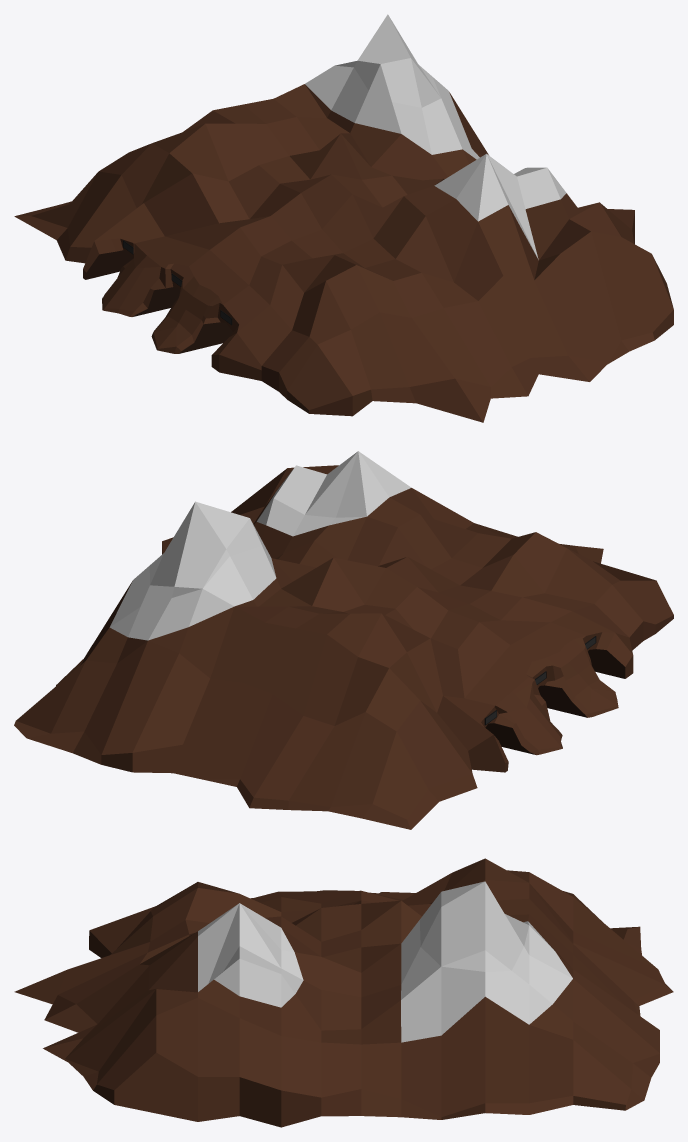
Rendered from StorageCave.fbx.
3 renders of one model, top to bottom at view 1: azimuth 30°, elevation 25°; view 2: azimuth 150°, elevation 25°; view 3: azimuth 270°, elevation 25°, orthographic. The views are drawn at different scales.
Visible parts, largest first — view 1: Mountain; view 2: Mountain; view 3: Mountain.
Boxes of the visible parts, box(x1,y1,x2,y2) form: Mountain: box(14, 14, 673, 422); Mountain: box(14, 451, 673, 829); Mountain: box(14, 858, 673, 1127).
Size of the model in its own units: 18744 by 5679 by 14438.
